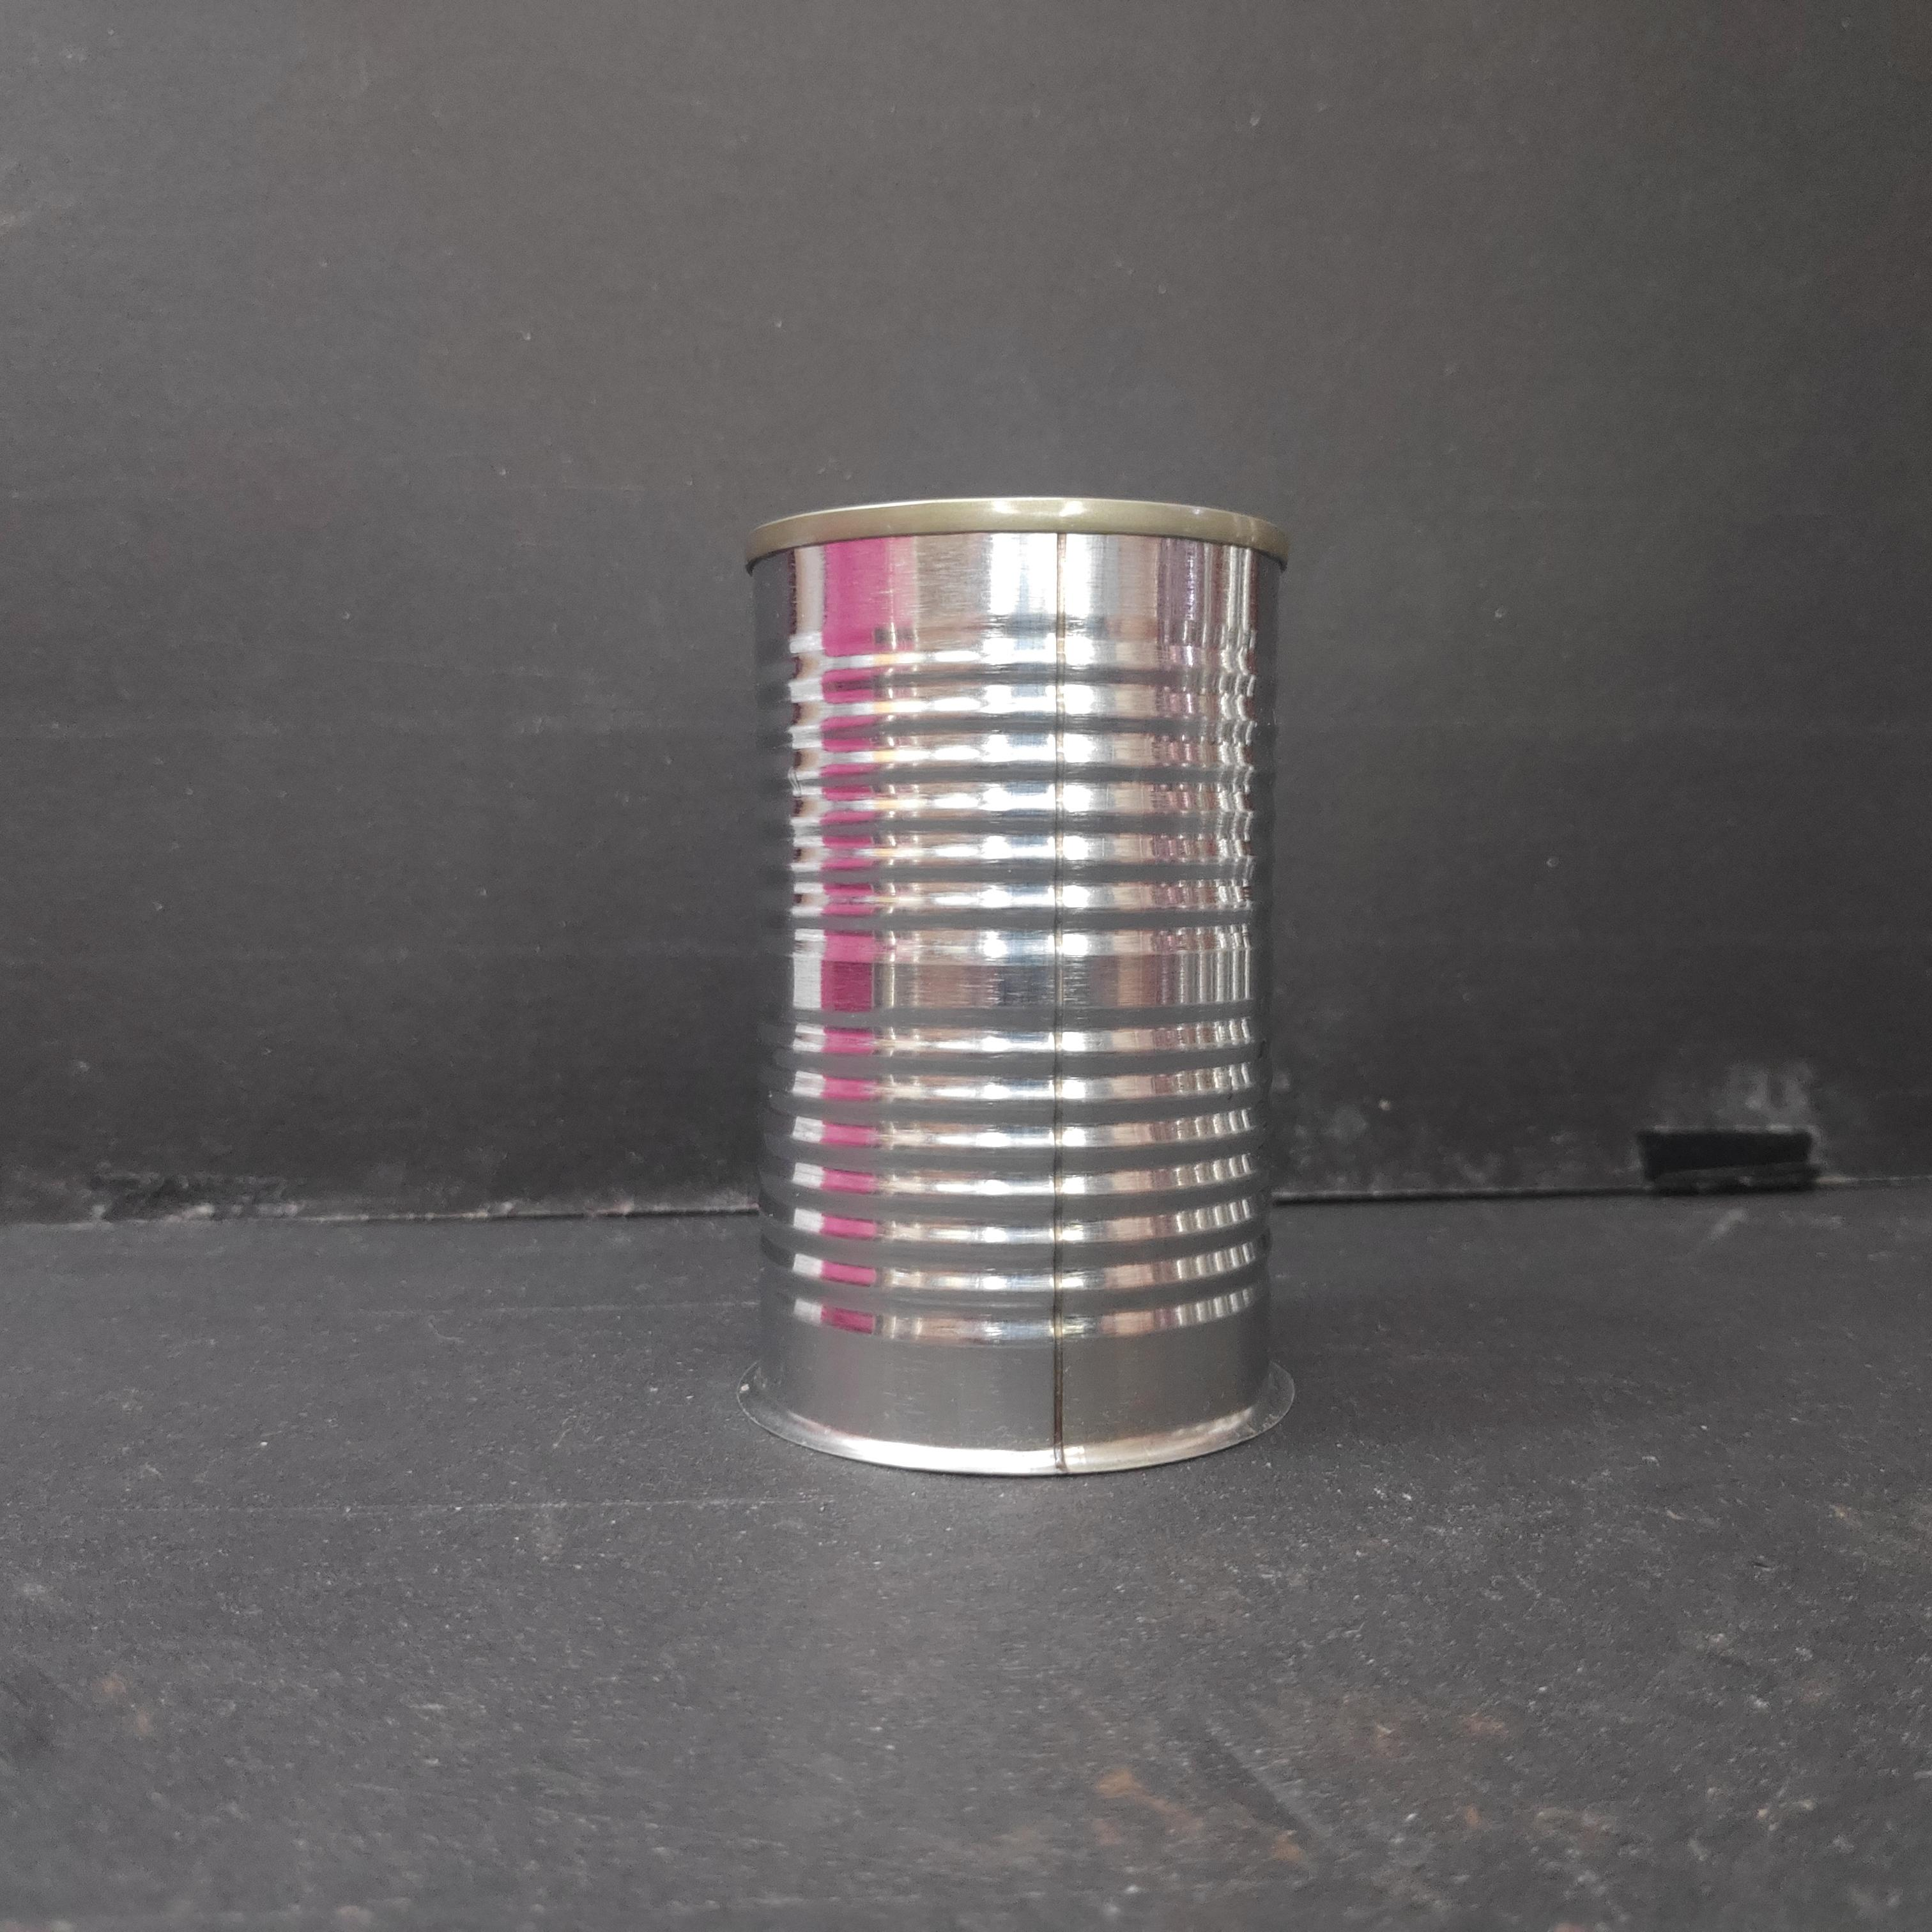No defect: (729, 487, 1307, 1479)
